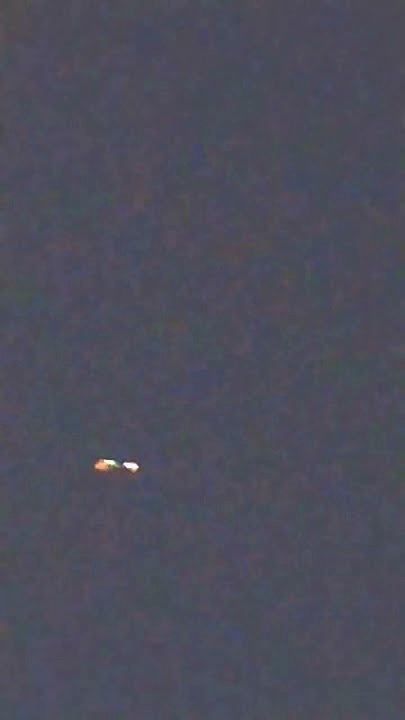Plane: (86, 446, 173, 488)
